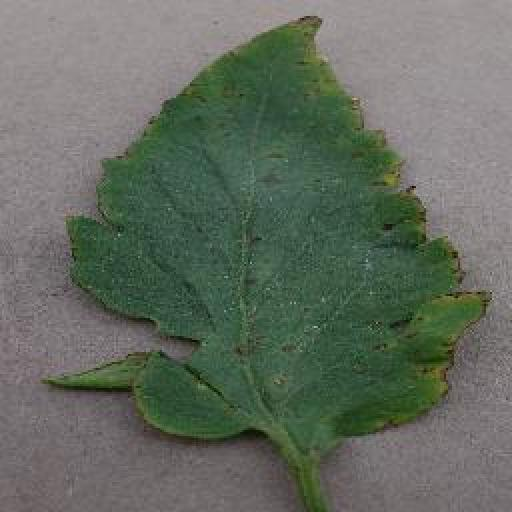Bacterial Spot: (25, 4, 495, 456)
